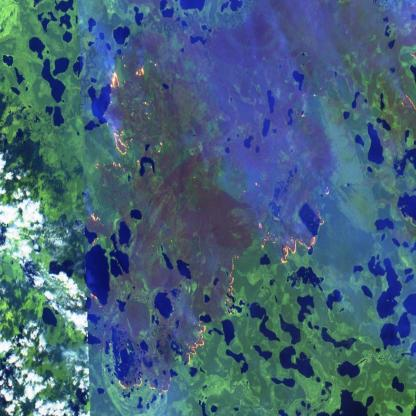fire: (100, 58, 167, 163), (256, 219, 322, 261), (85, 209, 109, 310), (114, 376, 173, 403), (396, 45, 416, 114), (223, 249, 244, 313), (182, 320, 208, 368)
